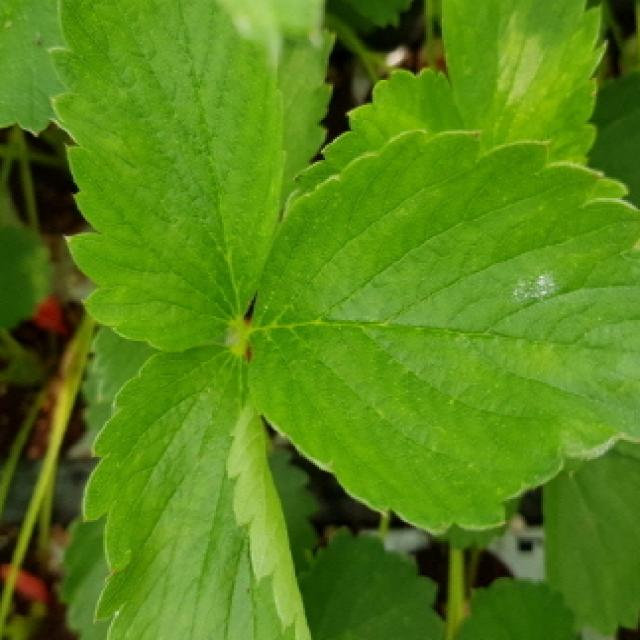Powdery Mildew Leaf: (246, 126, 640, 536)
